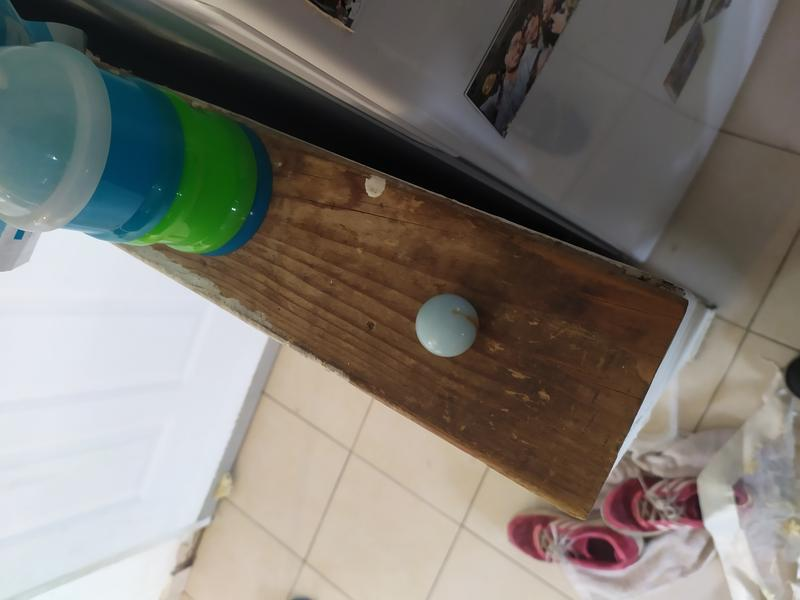Warning: (412, 290, 482, 361)
